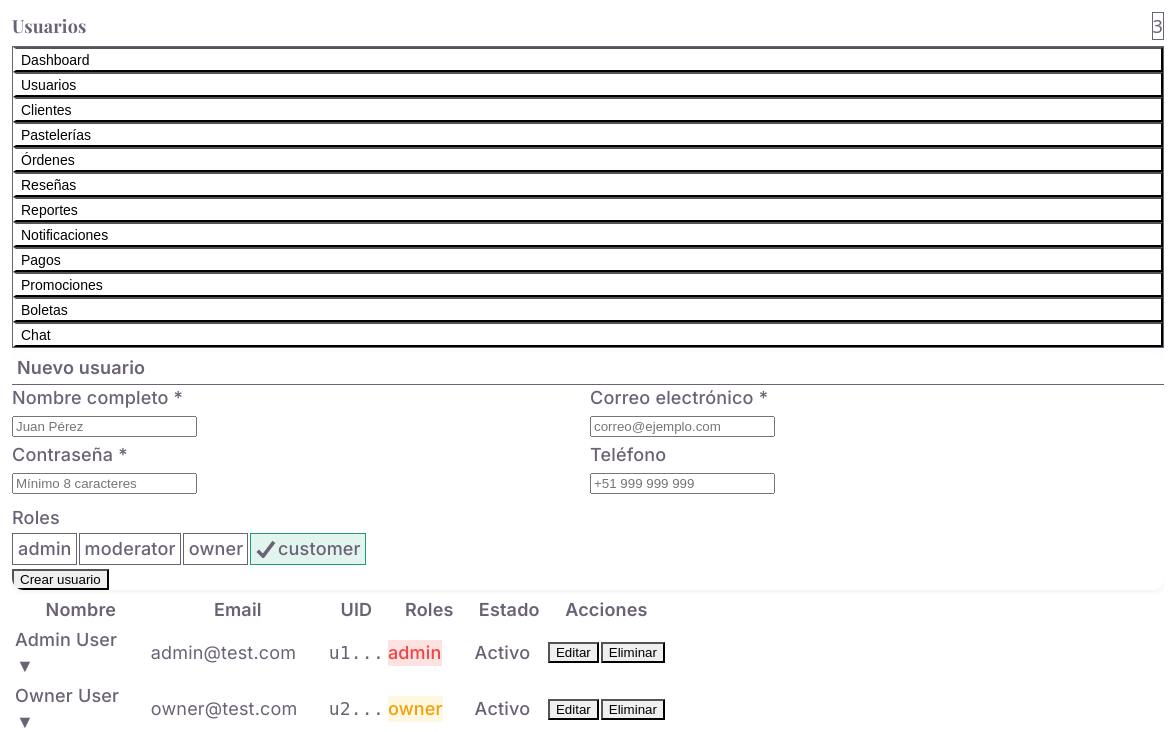
Test case: AdminUsers › cancela edicion al hacer click en Cancelar
Expected: the text "Admin User" is shown, [15, 629, 117, 650]
Click the button "Editar" in the row of "Admin User": point(573, 653) [548, 642, 599, 663]
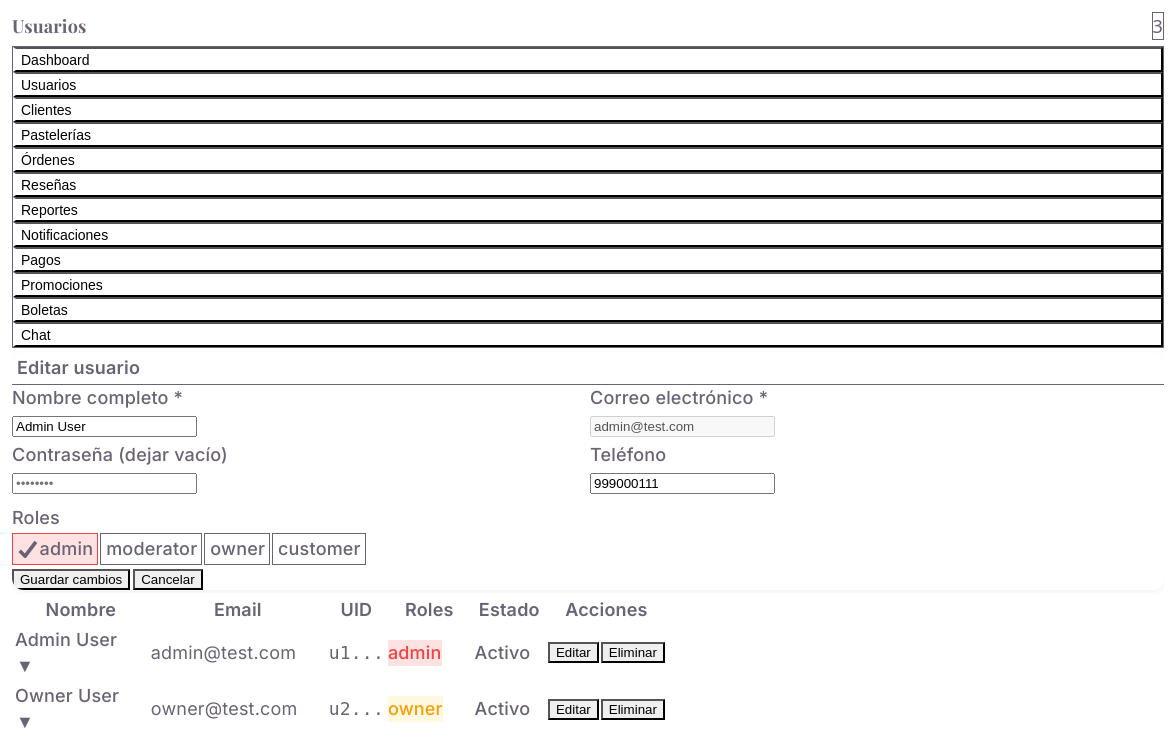
Expected: the button "Cancelar" is shown
Click the button "Cancelar": point(168, 579) [133, 569, 202, 590]
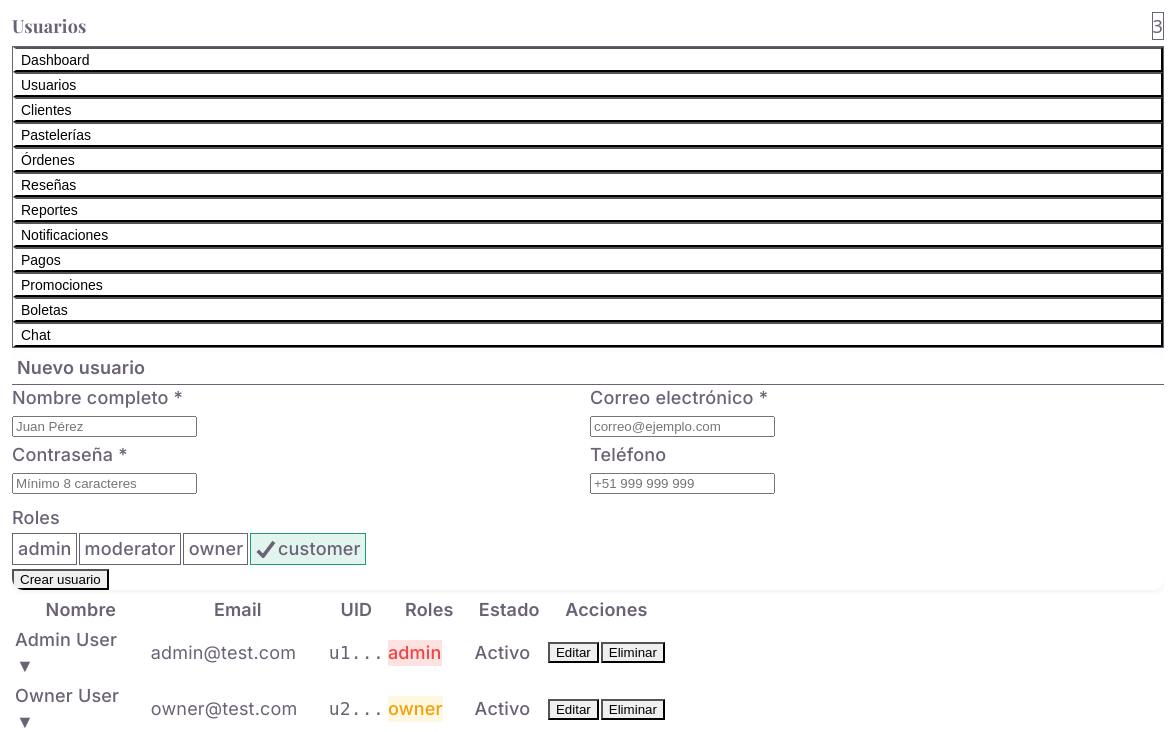
Expected: the text "Nuevo usuario" is shown, [17, 355, 145, 381]
